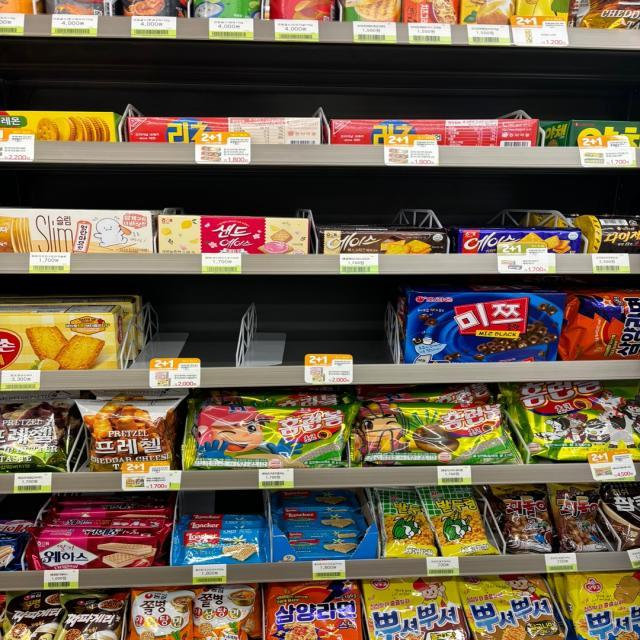product: (408, 290, 569, 363), (189, 398, 348, 464), (520, 379, 640, 455), (368, 402, 511, 463), (83, 398, 176, 478), (1, 309, 121, 369), (1, 211, 155, 255), (160, 212, 312, 256), (333, 118, 537, 148), (467, 577, 560, 637), (1, 397, 68, 477), (132, 117, 321, 144), (263, 586, 369, 634), (39, 529, 157, 571), (369, 584, 465, 634), (577, 291, 640, 364), (1, 108, 118, 147), (572, 574, 640, 640), (550, 481, 603, 550), (463, 228, 578, 258), (437, 489, 490, 554), (201, 586, 261, 640), (502, 491, 549, 559), (329, 234, 445, 261), (379, 485, 422, 556), (587, 207, 640, 258), (134, 593, 191, 638), (185, 530, 265, 562), (9, 594, 59, 637), (67, 602, 123, 640), (578, 124, 637, 151)
